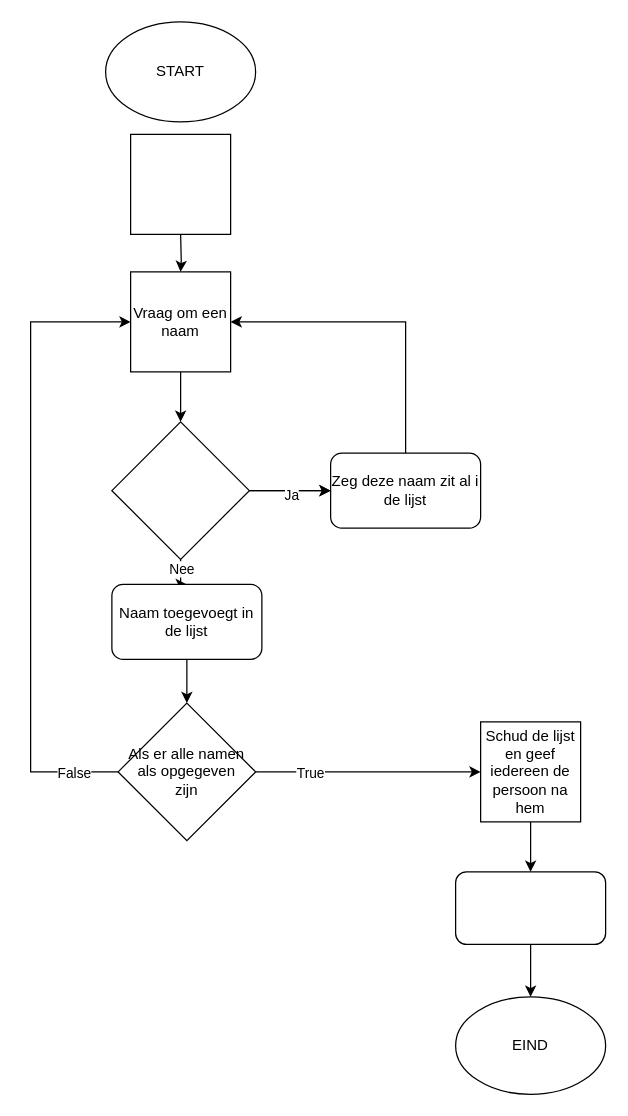
Some shapes in this 628 by 1116 pixel diagram are drawn without their labels. Each missing label, with the box of its shape:
als de naam in de lijst zit: (111, 421, 249, 559)
print de namen met lootjes: (454, 871, 606, 944)
Vraag hoeveel personen er meedoen: (129, 133, 231, 234)
